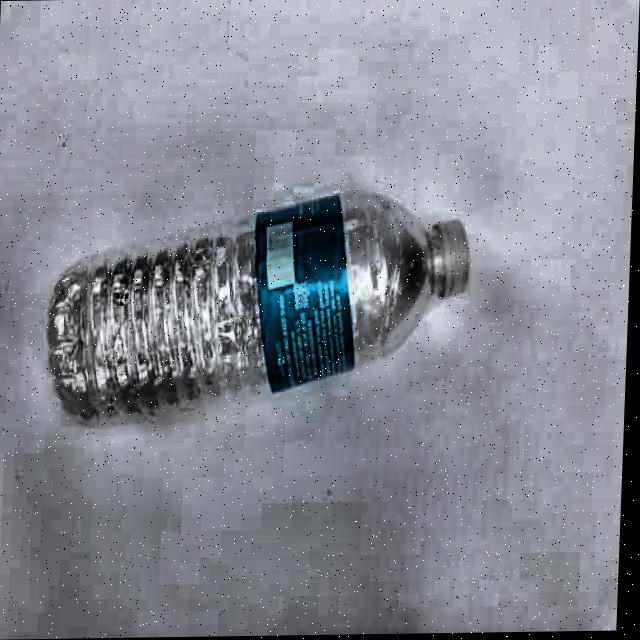plastic: (43, 184, 475, 432)
